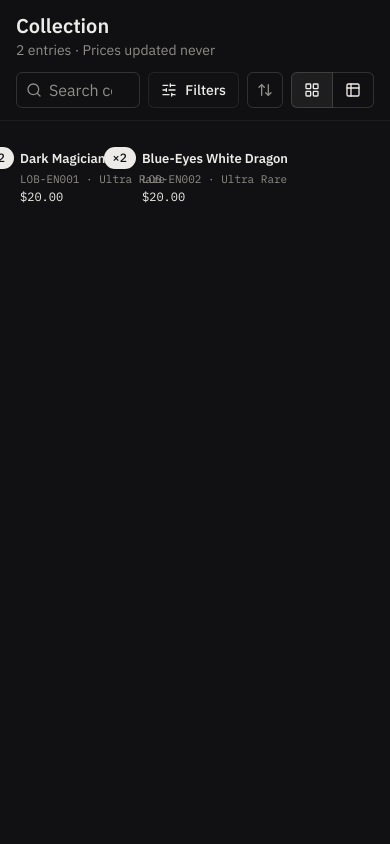
CollectionPage › keeps search, Filters and sort in one row, and every facet in the panel
Expected: the text "Dark Magician" is shown, [20,150,105,167]
Expected: the search field labelled "Search collection" is shown, [16,72,140,108]
Click the button "Filters": x=194, y=90 [148,72,239,108]
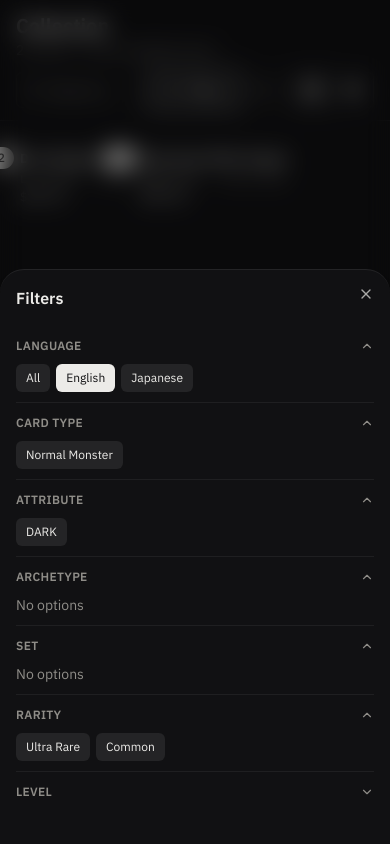
Result: the button "Language" is shown at [16,336,374,356]
Result: the button "Card type" is shown at [16,413,374,433]
Click the button "Level": x=34, y=792 [16,782,374,802]
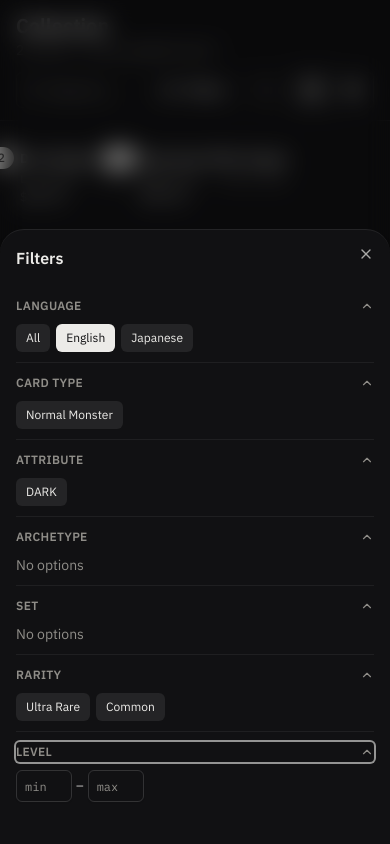
Result: the number field named "Level min" is shown at [16,770,72,802]
